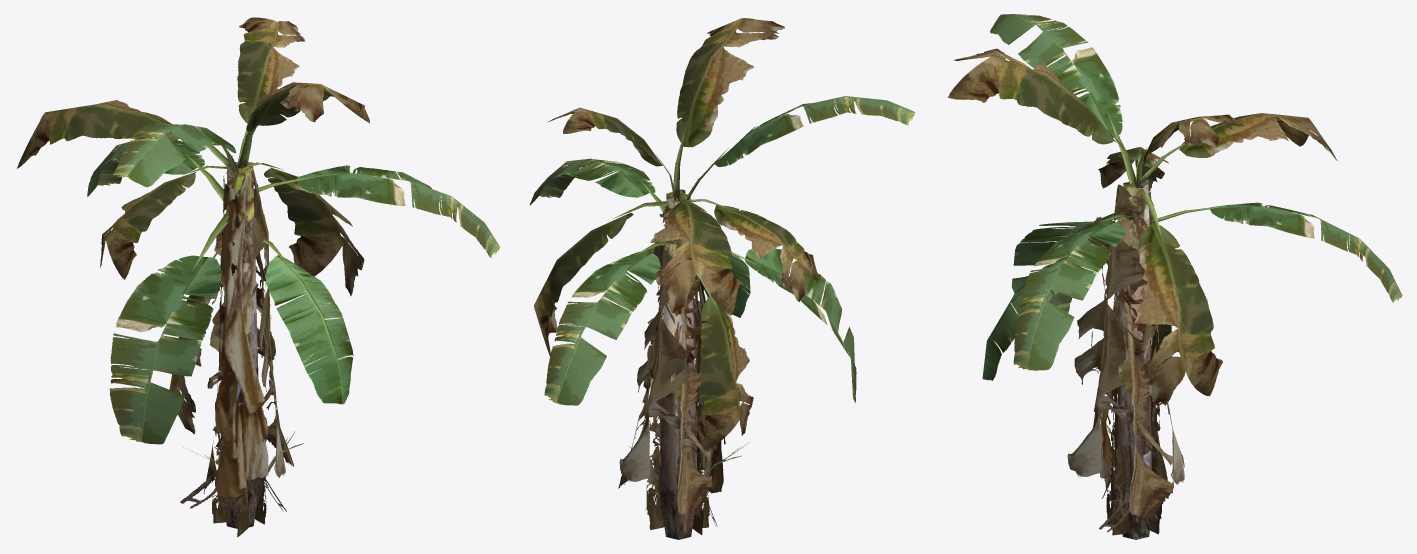
Rendered from bajiaoshu_01.FBX.
3 views of the same model, side by side, from view 1: azimuth 30°, elevation 25°; view 2: azimuth 150°, elevation 25°; view 3: azimuth 270°, elevation 25° (orthographic). The views are drawn at different scales.
Visible parts, largest first — view 1: bajiaoshu_01; view 2: bajiaoshu_01; view 3: bajiaoshu_01.
Boxes of the visible parts, x1=… form: bajiaoshu_01: x1=17, y1=17, x2=500, y2=537; bajiaoshu_01: x1=529, y1=18, x2=914, y2=539; bajiaoshu_01: x1=948, y1=14, x2=1402, y2=539.
Size of the model in its own units: 90.17 by 108 by 93.64.
